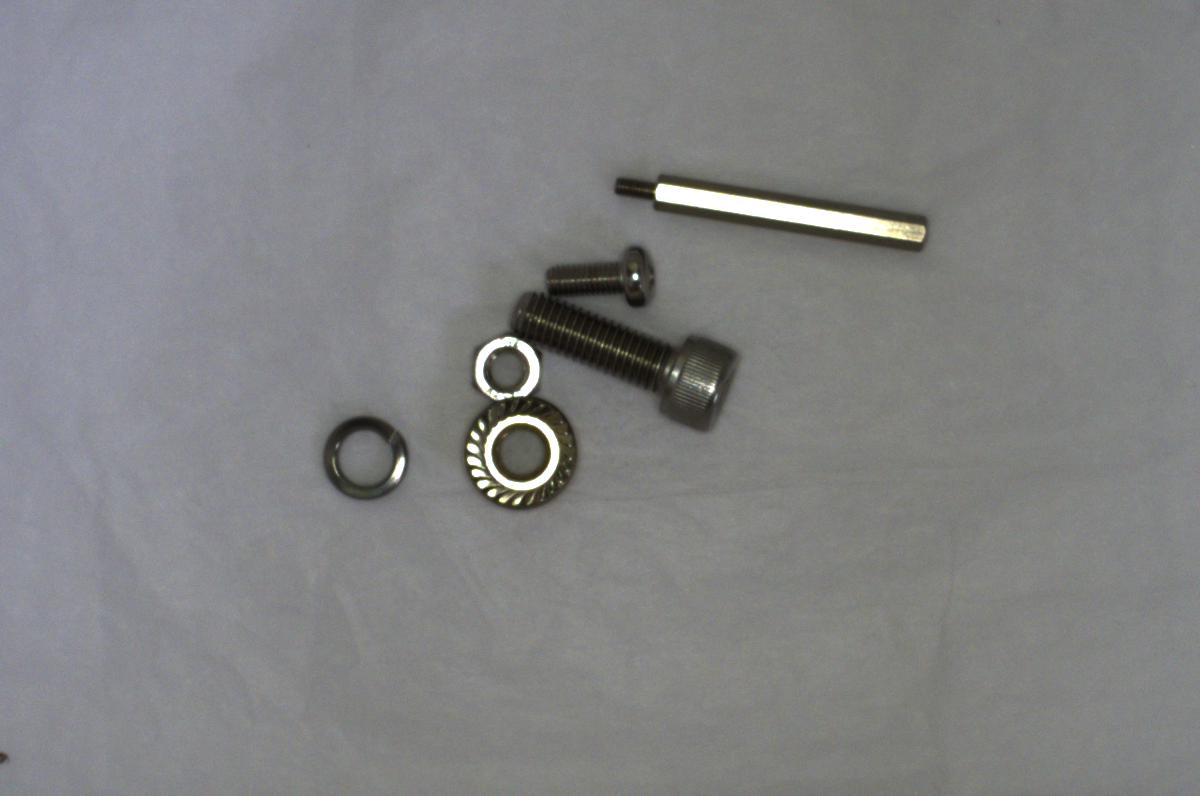Flange nut: (460, 395, 582, 516)
Hexagon nut: (466, 329, 546, 408)
Hexagon screw: (499, 283, 746, 432)
Hexagonal steel column: (595, 166, 938, 254)
Round head screw: (531, 236, 668, 312)
Spring washer: (310, 409, 420, 506)
